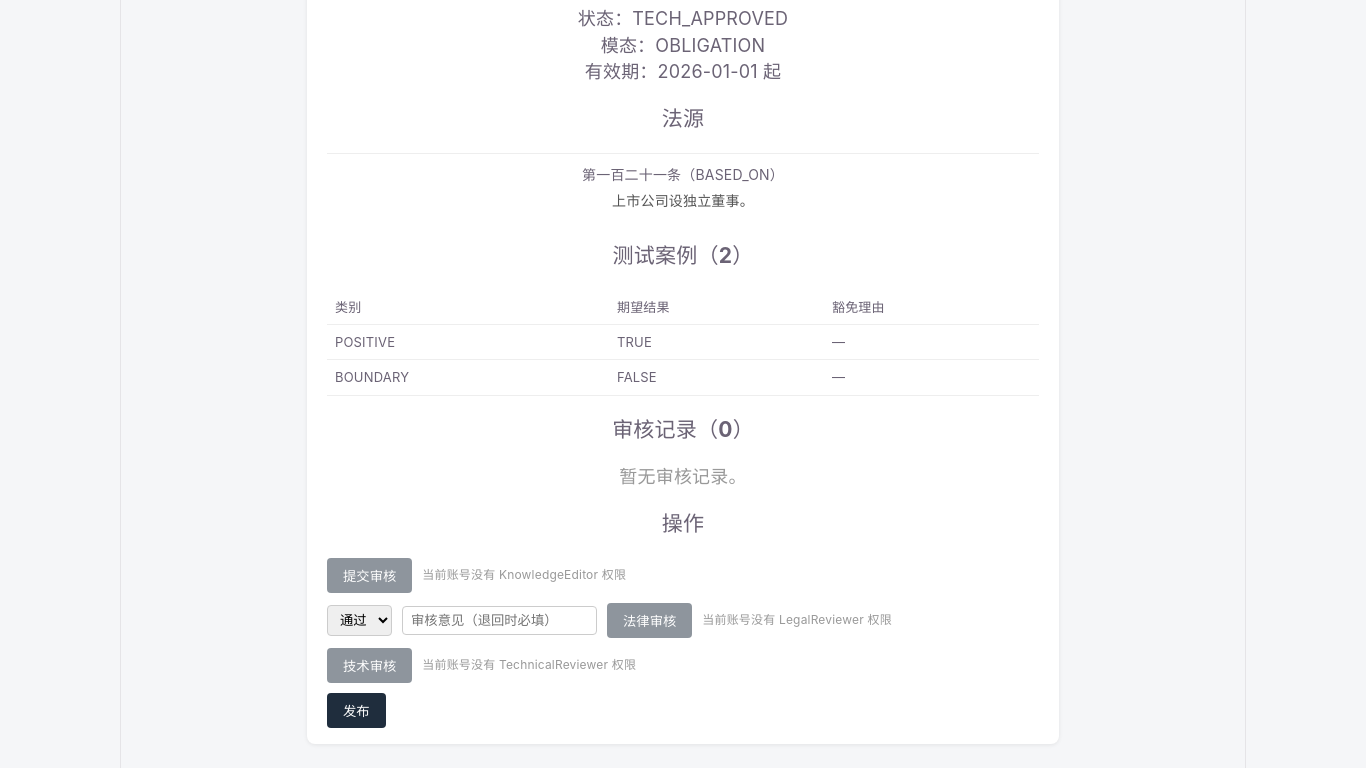
RuleDetailView › shows the publish gate failure reason returned by the backend
(page scrolled)
What coordinates should you click on to do the following:
click the button "发布"
I would click on:
 (356, 710)
Its box is [327,693,386,728].
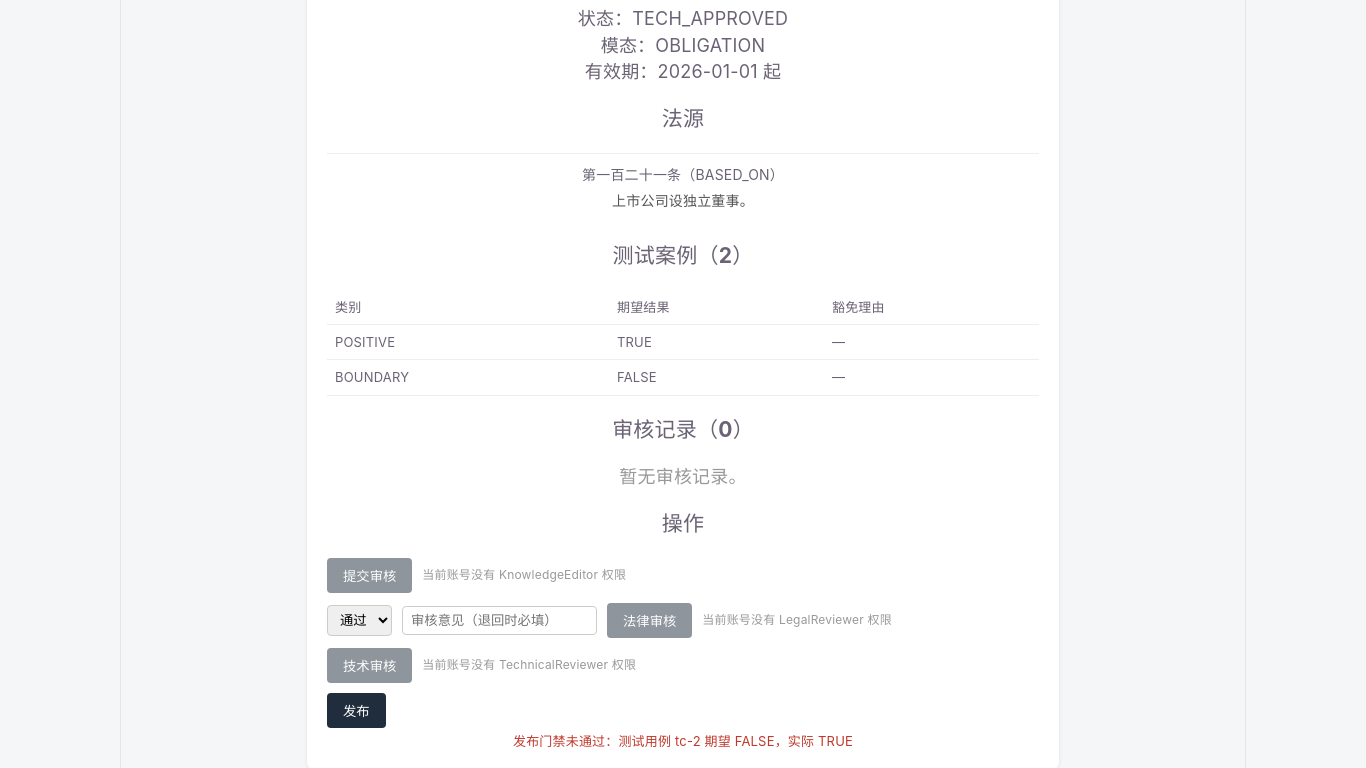
Now the text "发布门禁未通过：测试用例 tc-2 期望 FALSE，实际 TRUE" is shown, box [513,733,853,749]
